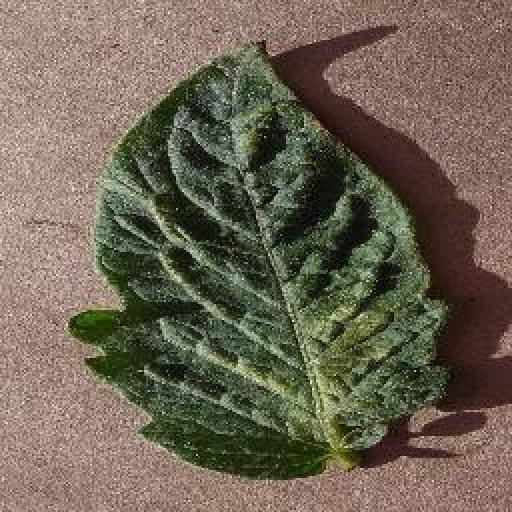Spider Mites: (71, 39, 445, 480)
